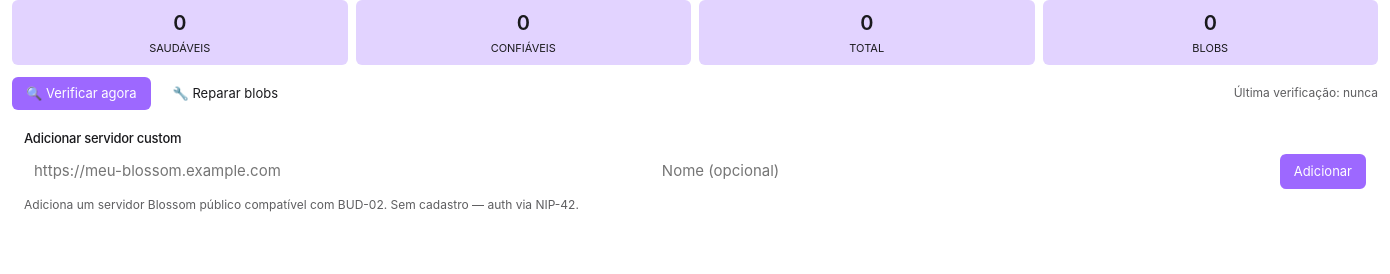
BlossomServersPanel › shows server error when addCustomServer throws
Type "https://x.com" into the field with test id "blossom-url-input" at (334, 172), box 24,154 -> 644,189
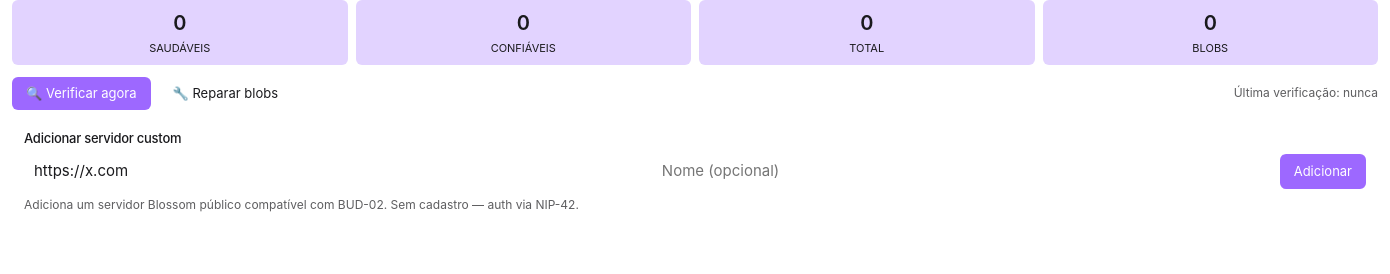
Click the button with test id "blossom-add-btn" at (1323, 172), box 1280,154 -> 1366,189
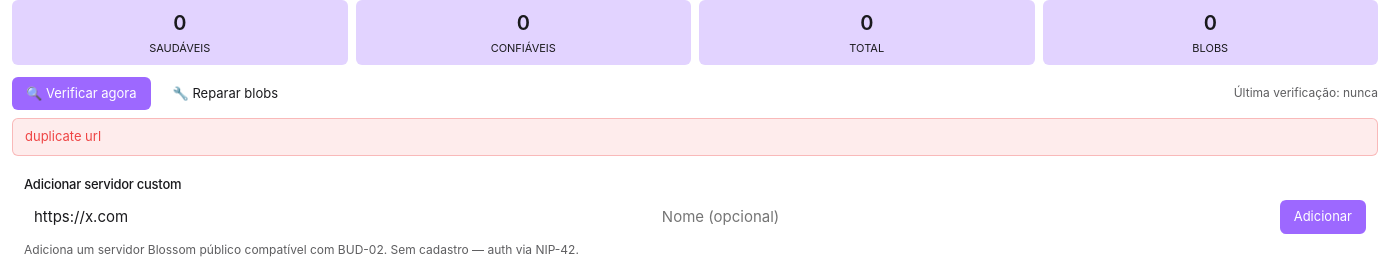
Expected: the text "duplicate url" is shown, 12,118 -> 1378,156
